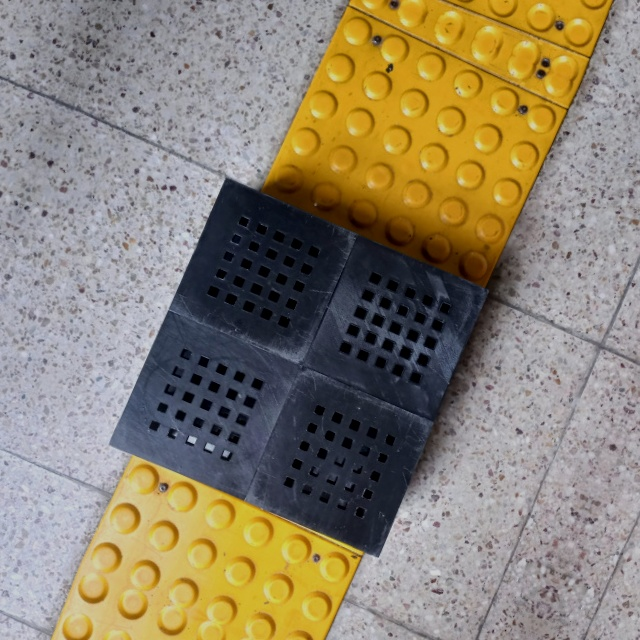pallet: (101, 172, 494, 562)
